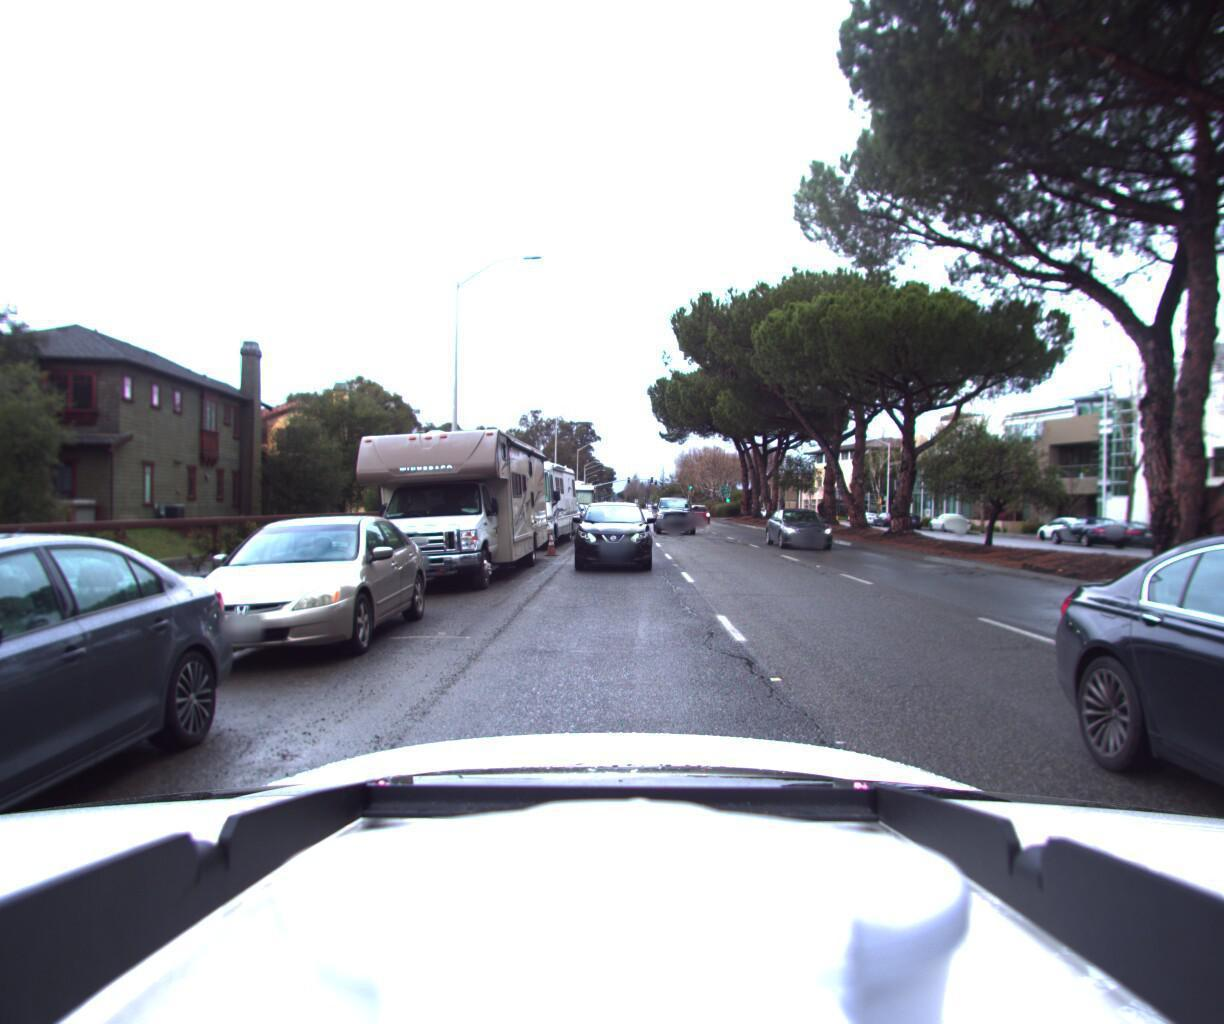car: (138, 499, 442, 678), (574, 498, 657, 571), (1151, 513, 1224, 568), (767, 507, 844, 552), (1031, 514, 1117, 545), (651, 496, 698, 537), (926, 510, 971, 532), (888, 509, 922, 528), (688, 502, 717, 523)
other_vehicle: (327, 406, 552, 593), (467, 440, 578, 555), (556, 474, 596, 527)
